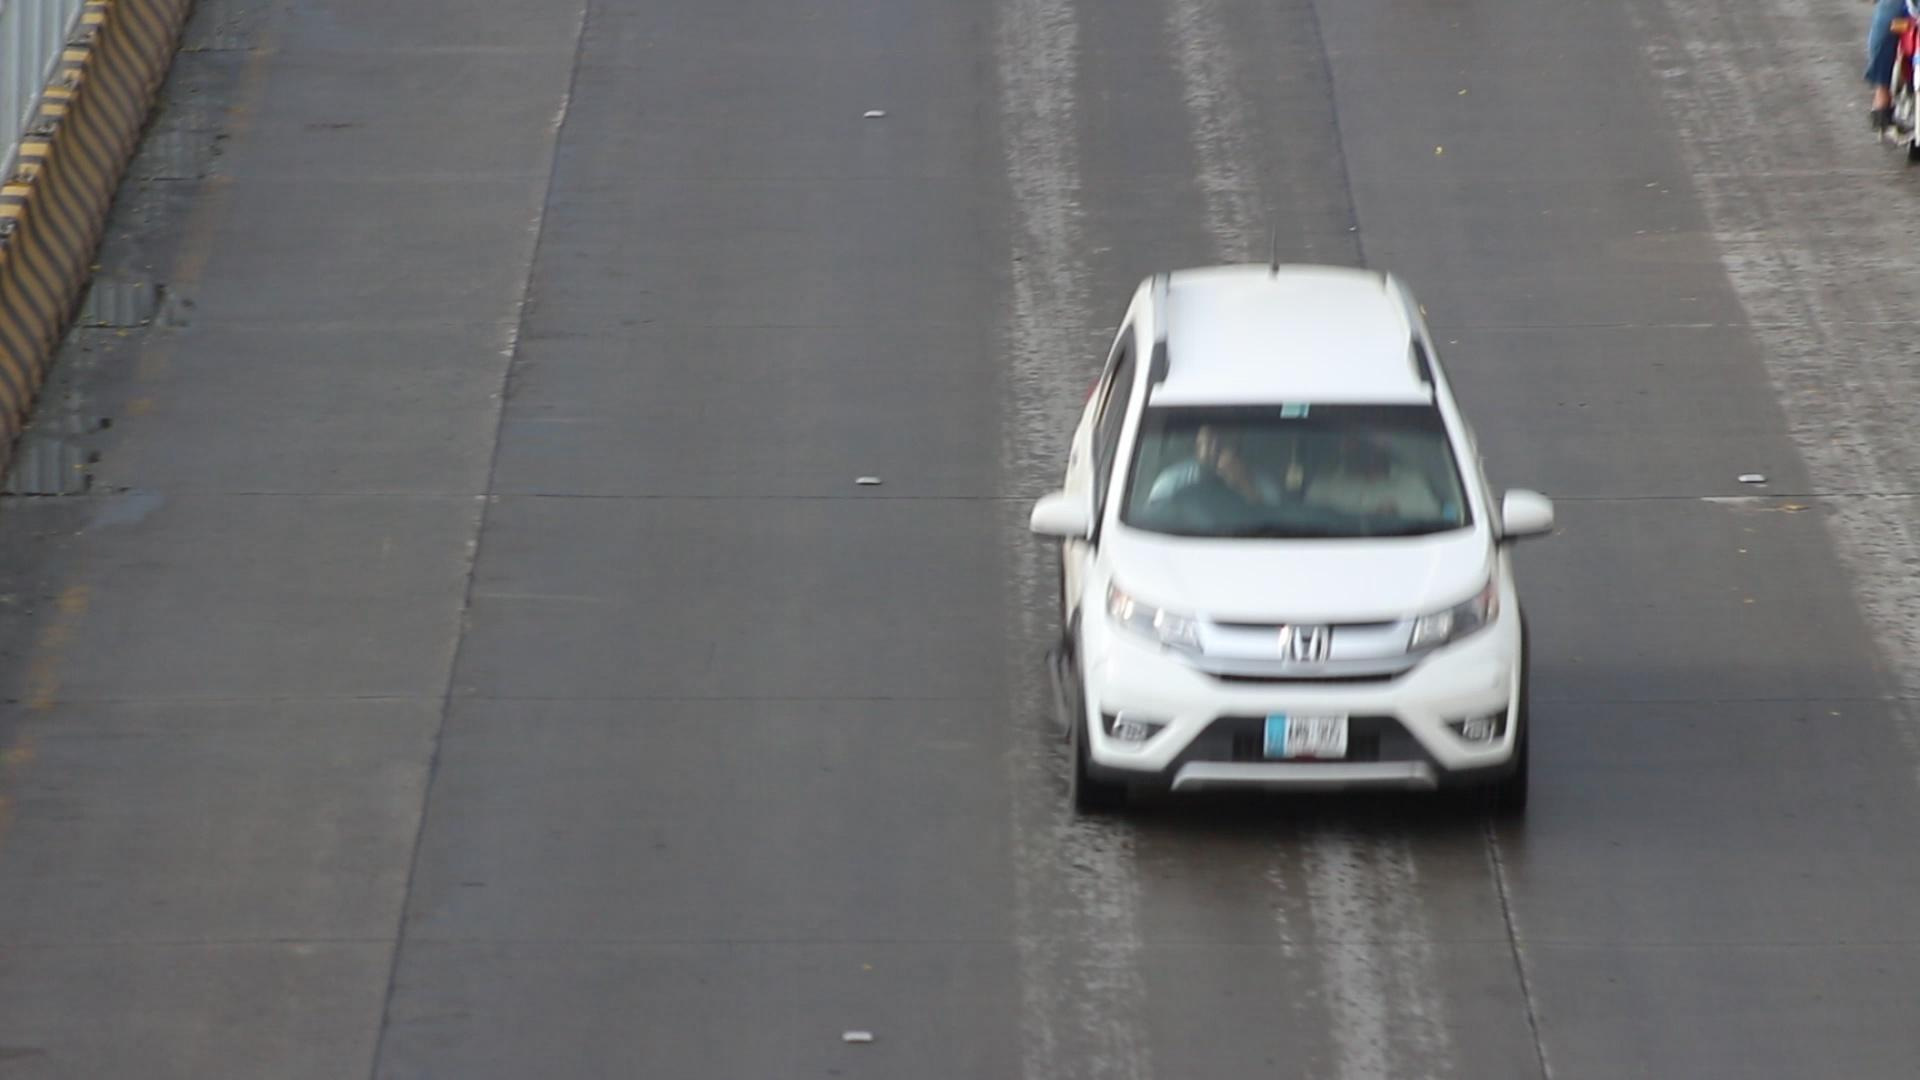windshield: (1104, 384, 1487, 543)
